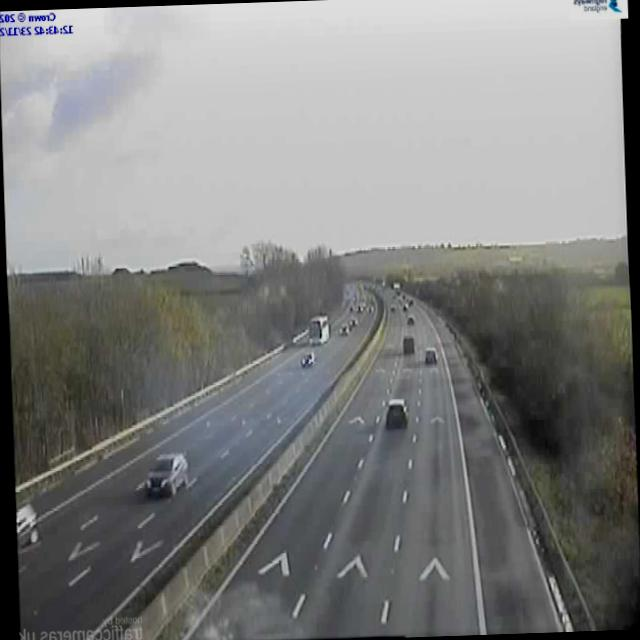foliage: (417, 270, 640, 624), (9, 262, 341, 482)
